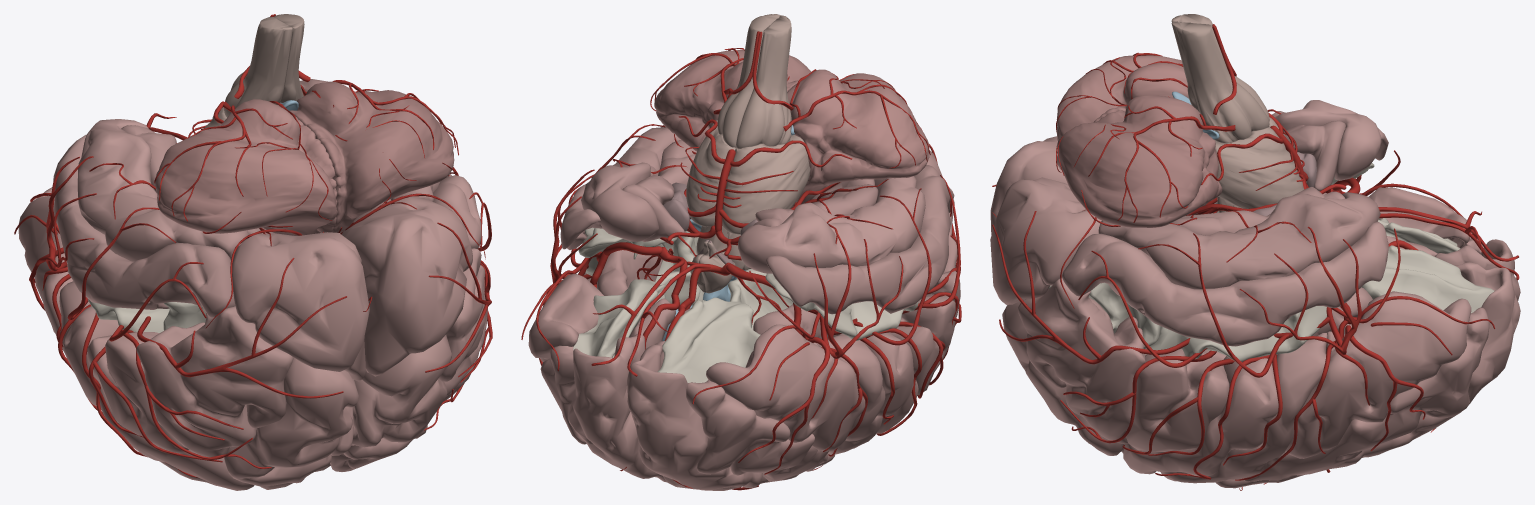
File: brain.glb
The picture shows the model from 3 angles, left to right: view 1: azimuth 30°, elevation 25°; view 2: azimuth 150°, elevation 25°; view 3: azimuth 270°, elevation 25°; orthographic projection. The views are drawn at different scales.
Parts seen in each view (by area): view 1: FJ1830, FJ1792, FJ1791, FJ1733, FJ1781, FJ1790, FJ1747, FJ1836, FJ1835, FJ1798, FJ1842, FJ1831 (+16 smaller); view 2: FJ1830, FJ1745, FJ1747, FJ1790, FJ1834, FJ1806, FJ1788, FJ1833, FJ1746, FJ1781, FJ1822, FJ1758 (+33 smaller); view 3: FJ1789, FJ1781, FJ1746, FJ1744, FJ1732, FJ1791, FJ1758, FJ1787, FJ1841, FJ1797, FJ1769, FJ1833 (+26 smaller).
Part boxes in pixels (x1,y1,x2,y2): FJ1830: (155, 99, 337, 235); FJ1792: (232, 227, 369, 381); FJ1791: (340, 197, 472, 376); FJ1733: (136, 306, 293, 457); FJ1781: (289, 81, 454, 232); FJ1790: (53, 134, 235, 317); FJ1747: (77, 119, 248, 261); FJ1836: (224, 357, 358, 486); FJ1835: (343, 334, 451, 468); FJ1798: (63, 306, 292, 490); FJ1842: (87, 332, 188, 453); FJ1831: (224, 17, 292, 117); FJ1830: (787, 69, 929, 206); FJ1745: (706, 324, 865, 451); FJ1747: (738, 176, 925, 273); FJ1790: (766, 165, 954, 314); FJ1834: (627, 341, 835, 490); FJ1806: (657, 273, 918, 382); FJ1788: (686, 380, 828, 481); FJ1833: (568, 333, 666, 482); FJ1746: (581, 127, 681, 241); FJ1781: (654, 50, 811, 151); FJ1822: (722, 135, 810, 234); FJ1758: (573, 227, 705, 357); FJ1789: (1062, 222, 1388, 346); FJ1781: (1057, 95, 1222, 227); FJ1746: (1098, 192, 1380, 289); FJ1744: (1286, 291, 1471, 458); FJ1732: (1017, 277, 1145, 443); FJ1791: (990, 177, 1101, 304); FJ1758: (1048, 245, 1494, 361); FJ1787: (1244, 307, 1489, 481); FJ1841: (1126, 348, 1229, 451); FJ1797: (1121, 356, 1278, 476); FJ1769: (1171, 21, 1269, 142); FJ1833: (1215, 262, 1520, 488).
Size of the model in its own units: 145 by 166 by 180.
